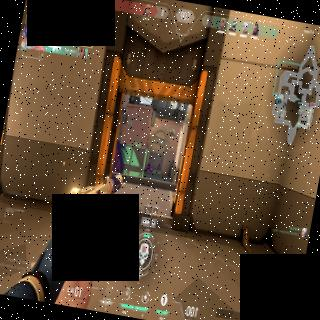ENEMY-BODY: (156, 158, 162, 172)
ENEMY-HEAD: (160, 158, 160, 160)
